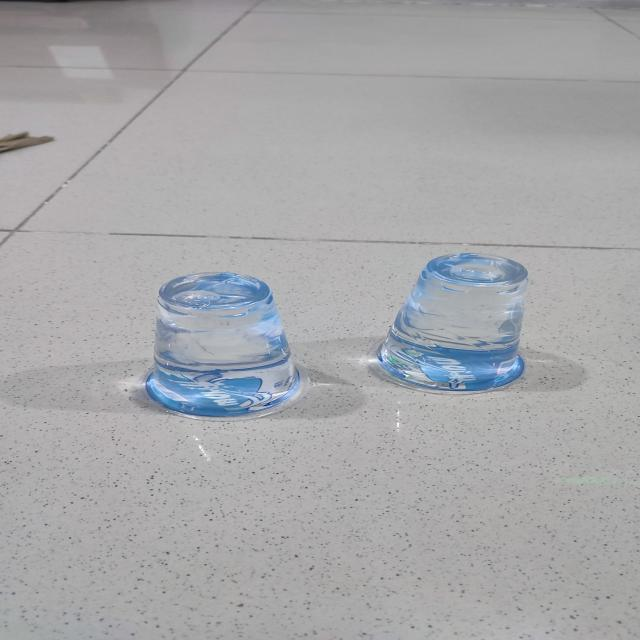air gelas: (355, 245, 545, 393), (136, 261, 300, 419)
